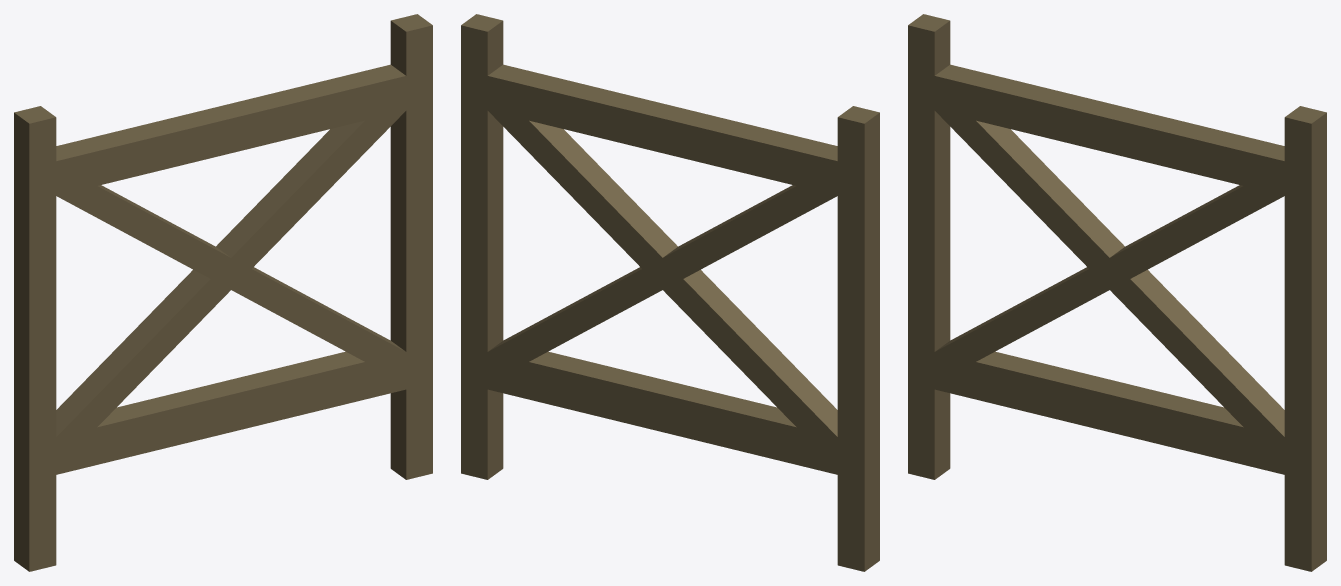
File: Fence_01.fbx
3 renders of one model, left to right at view 1: azimuth 30°, elevation 25°; view 2: azimuth 150°, elevation 25°; view 3: azimuth 330°, elevation 25°, orthographic.
Visible parts, largest first — view 1: pCube3; view 2: pCube3; view 3: pCube3.
Part boxes in pixels (x1=…): pCube3: x1=14, y1=14, x2=432, y2=571; pCube3: x1=461, y1=14, x2=879, y2=571; pCube3: x1=908, y1=14, x2=1326, y2=571.
Size of the model in its own units: 75.37 by 80 by 5.
